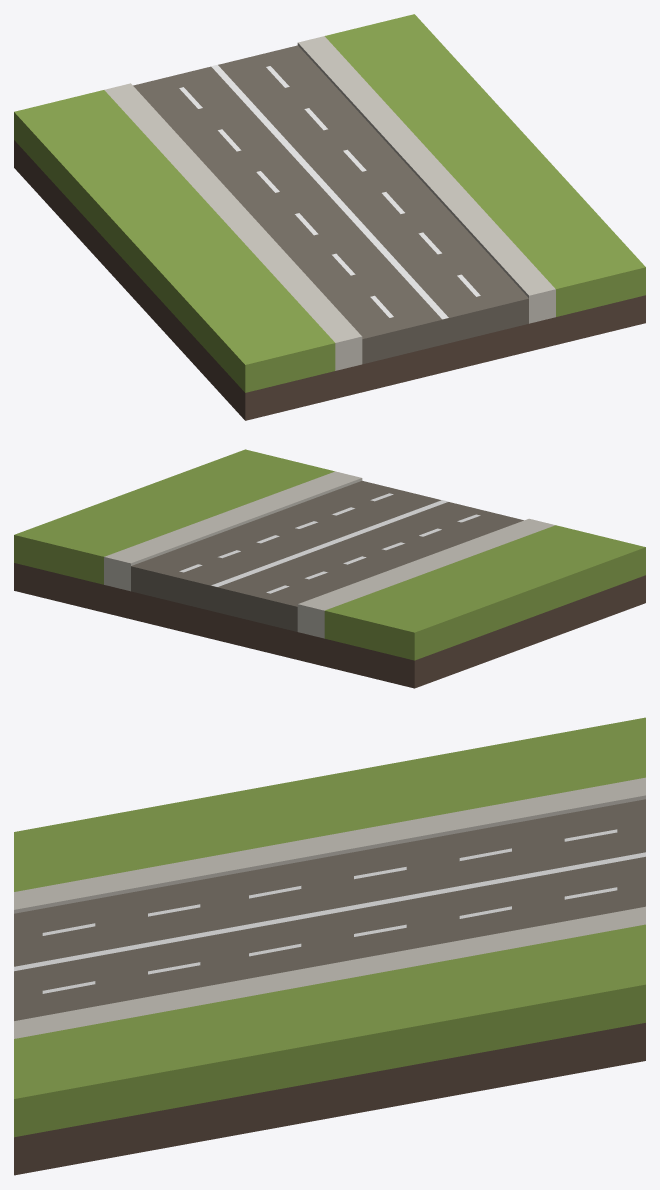
The model's file is mainroad-tile-straight_hill.fbx.
The picture shows the model from 3 angles, top to bottom: view 1: azimuth 30°, elevation 25°; view 2: azimuth 150°, elevation 25°; view 3: azimuth 270°, elevation 25°; orthographic projection. The views are drawn at different scales.
Visible parts, largest first — view 1: mainroad-tile-straight_hill; view 2: mainroad-tile-straight_hill; view 3: mainroad-tile-straight_hill.
Boxes of the visible parts, <box> form: mainroad-tile-straight_hill: <box>14,14,645,420</box>; mainroad-tile-straight_hill: <box>14,449,645,688</box>; mainroad-tile-straight_hill: <box>14,717,645,1175</box>.
Bounding box in the file's own units: 3000 × 1000 × 3000.
